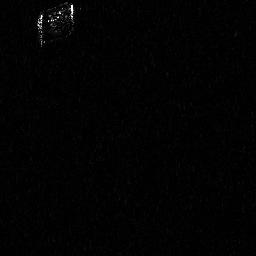ship: (34, 1, 79, 45)
